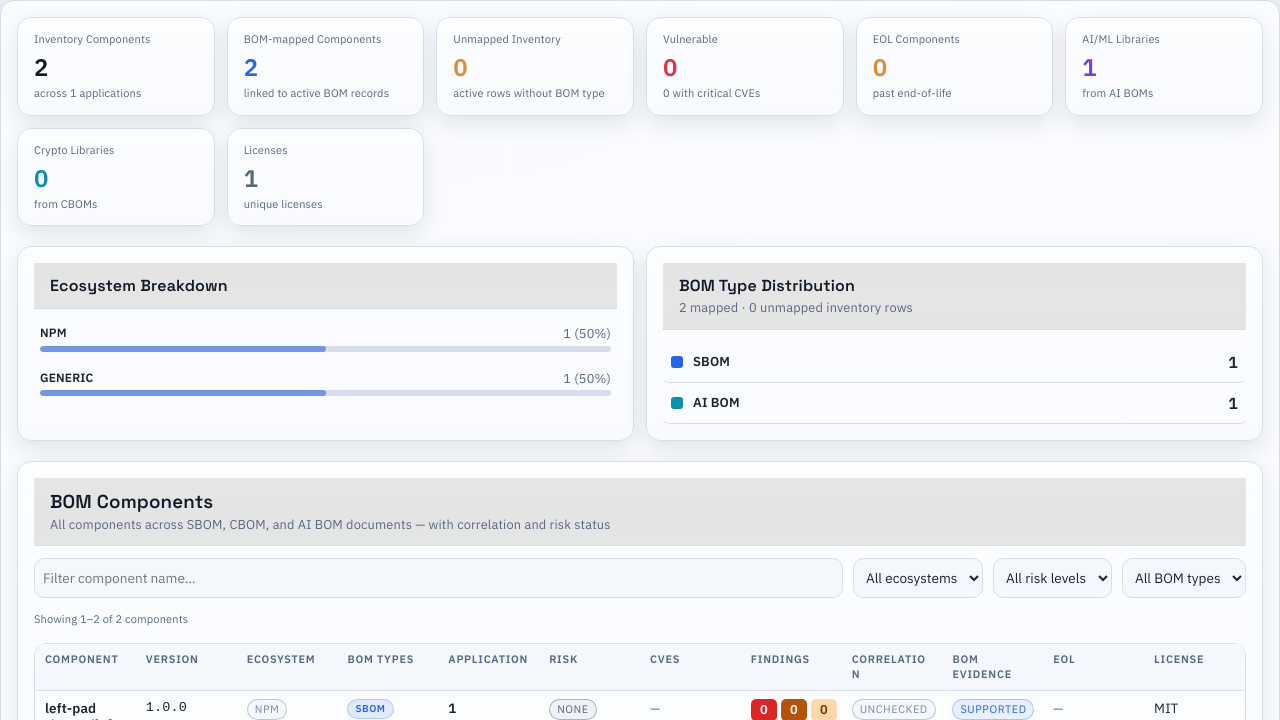
BomComponents › regression: a widget card click clears a stale ecosystem facet filter instead of being silently intersected with it
This screenshot has width=1280, height=720.
Expected: the text "left-pad" is shown, [45,699,96,717]
Click the text "generic". click: point(67, 378)
box: [40,370,94,387]
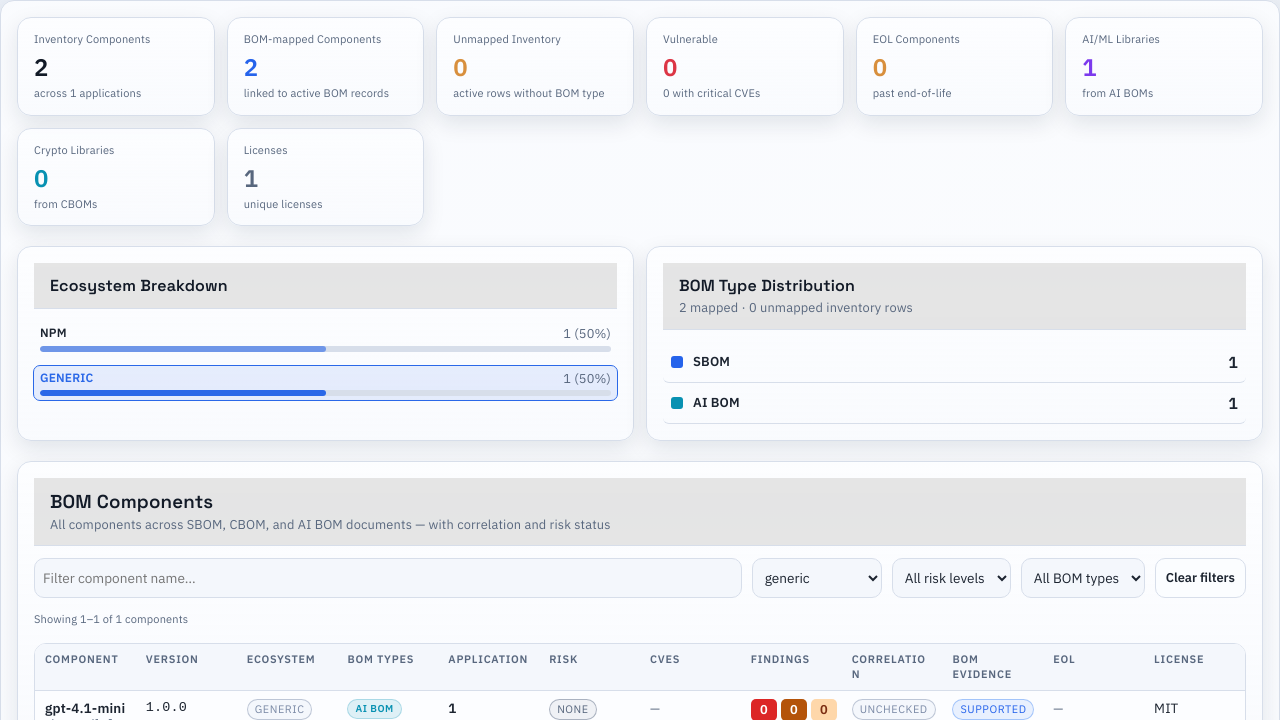
Expected: the text "gpt-4.1-mini" is shown, [45,699,126,718]
// Clicking "Inventory Components" must clear the stale ecosystem facet and show everything.
Click the text "Inventory Components". click: point(116, 66)
box: [17,17,215,116]
(page scrolled)
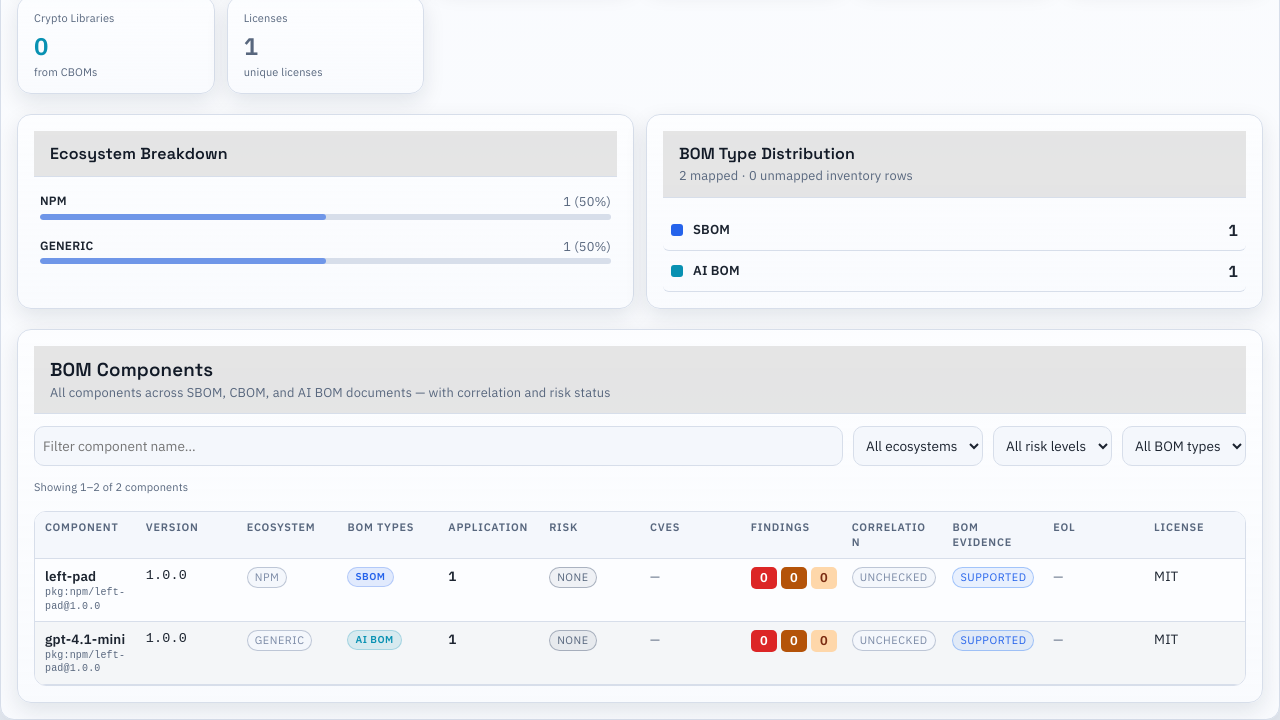
Expected: the text "gpt-4.1-mini" is shown, [45,630,126,649]
Result: the text "left-pad" is shown at [45,567,96,585]
